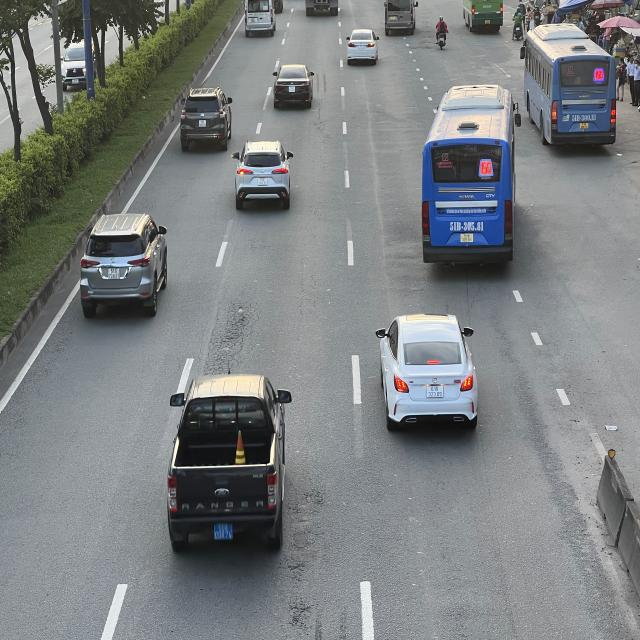car: (168, 372, 295, 555), (377, 313, 479, 435), (82, 213, 172, 318), (234, 143, 295, 213), (180, 90, 234, 152), (272, 63, 315, 108), (344, 27, 380, 64)
coach: (425, 83, 523, 263), (521, 24, 618, 148), (464, 0, 505, 32)
van: (243, 0, 277, 38), (385, 0, 420, 32)
